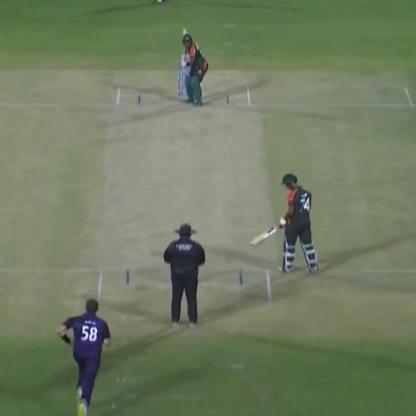bat: (96, 89, 271, 317), (238, 223, 283, 247)
pitch: (175, 25, 194, 73)
